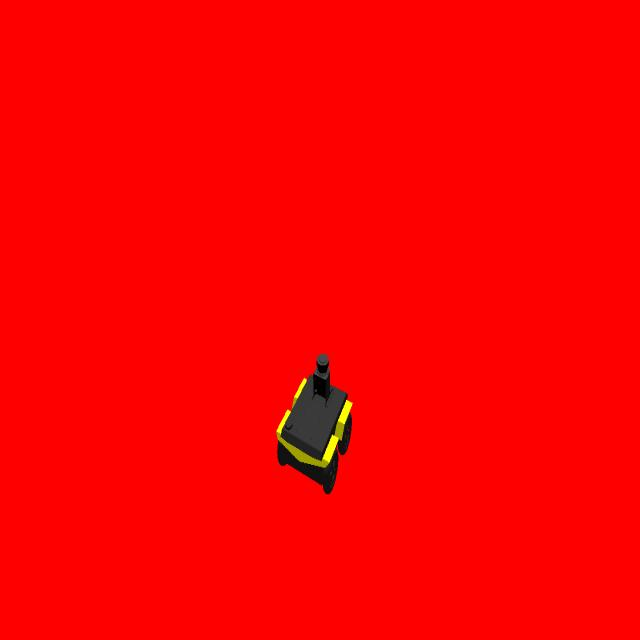jackal: (274, 352, 354, 497)
